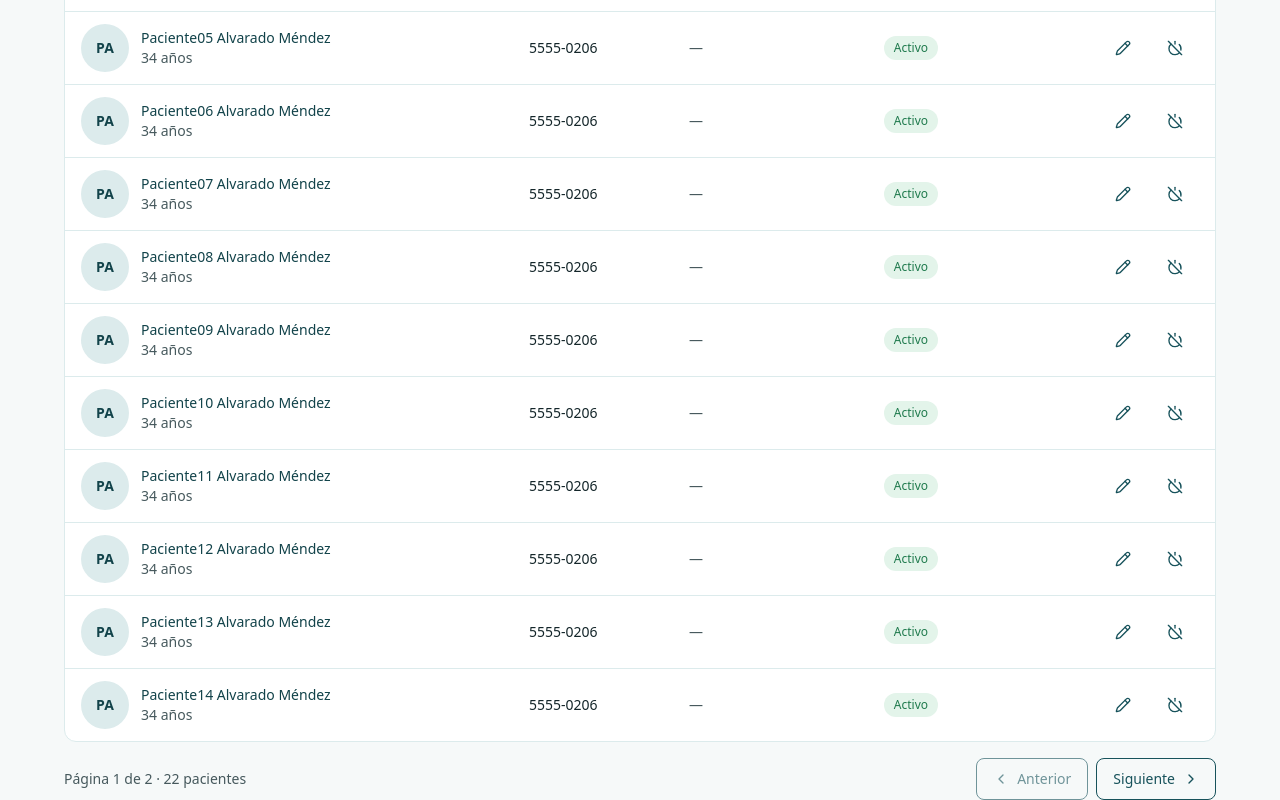
Test case: Pacientes (listado) › pagina: pide la página siguiente al servidor
The image size is (1280, 800).
(page scrolled)
Check: the text "Página 1 de 2 · 22 pacientes" is shown, box top-left (64, 769), bottom-right (246, 789)
Check: the button "Anterior" is disabled, box top-left (976, 758), bottom-right (1088, 799)
Click the button "Siguiente".
click(1156, 779)  # box top-left (1096, 758), bottom-right (1216, 799)
(page scrolled)
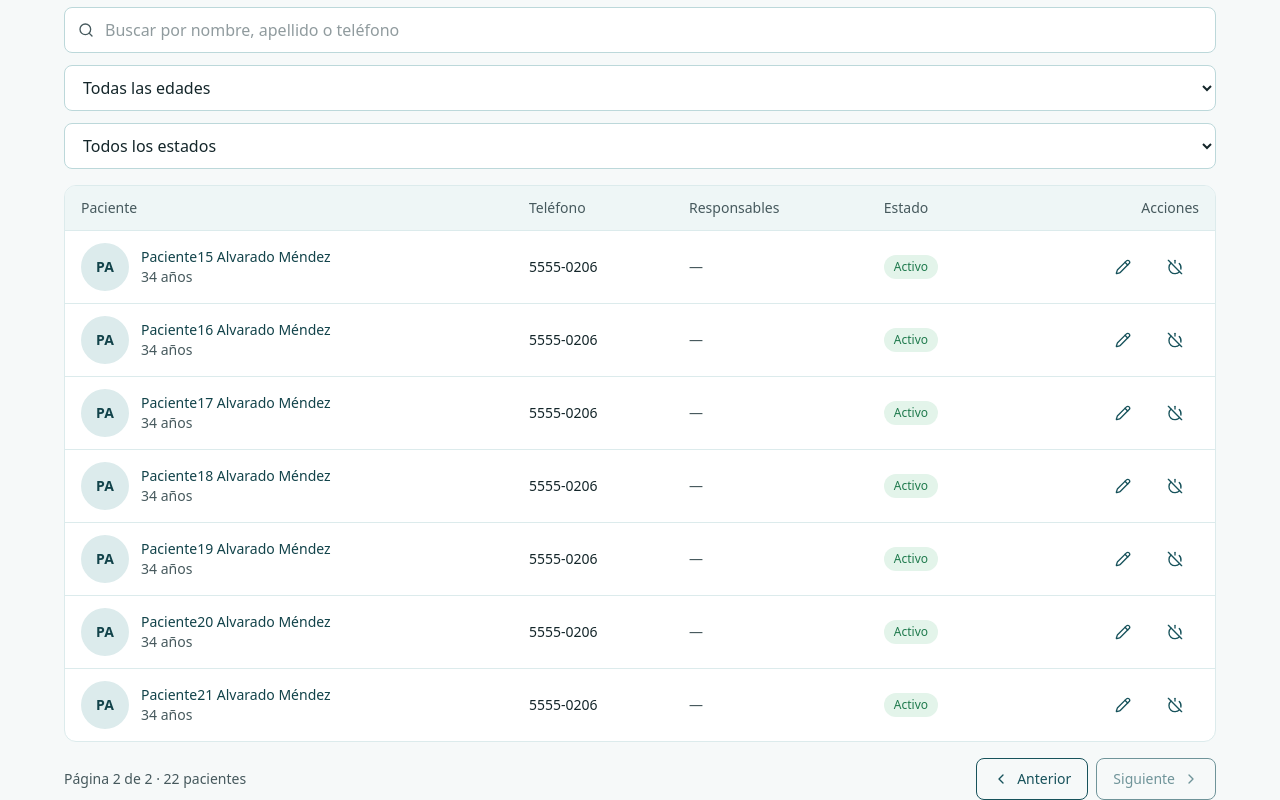
Check: the text "Página 2 de 2 · 22 pacientes" is shown, box top-left (64, 769), bottom-right (246, 789)
Check: the button "Siguiente" is disabled, box top-left (1096, 758), bottom-right (1216, 799)
